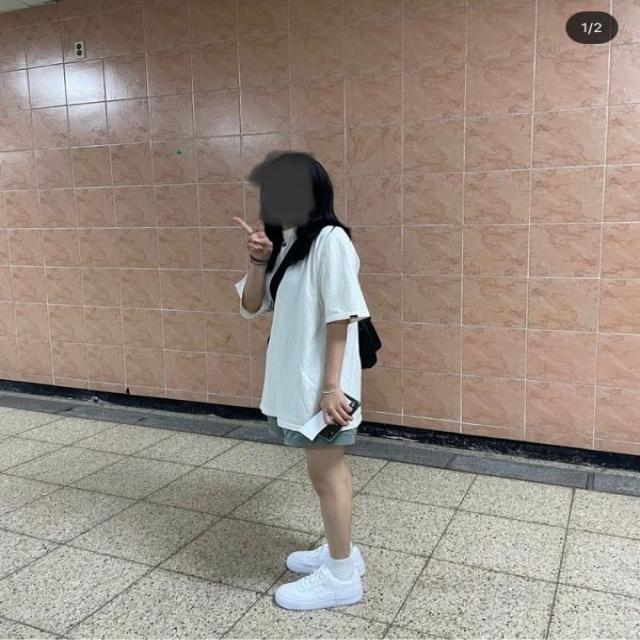shortpants: (268, 413, 360, 448)
shortsleeve: (237, 232, 366, 432)
